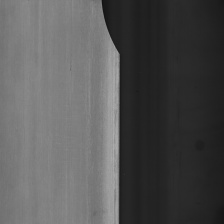crescent_gap: (97, 0, 125, 57)
